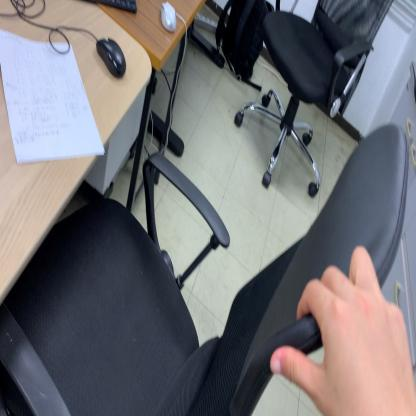chair: (0, 120, 409, 415), (232, 0, 397, 201)
